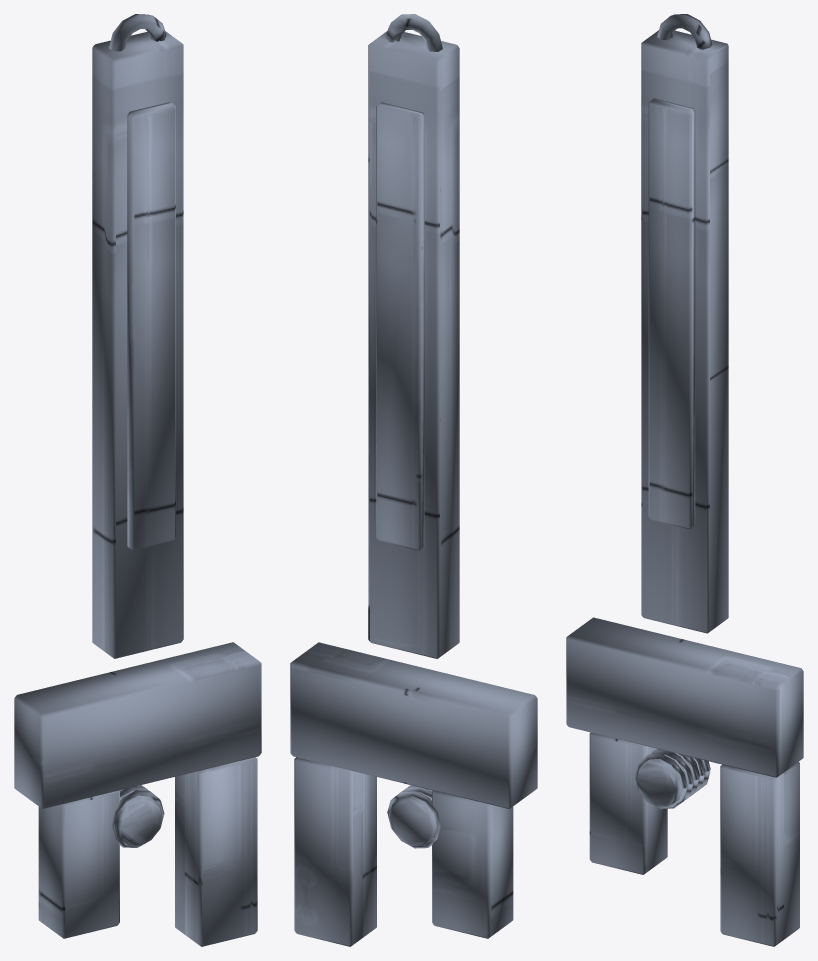
File: Tano_Llave.fbx
3 views of the same model, side by side, from view 1: azimuth 30°, elevation 25°; view 2: azimuth 150°, elevation 25°; view 3: azimuth 330°, elevation 25° (orthographic). The views are drawn at different scales.
Parts seen in each view (by area): view 1: Tano_Llave; view 2: Tano_Llave; view 3: Tano_Llave.
Part boxes in pixels (x1,y1,x2,y2): Tano_Llave: (14, 14, 261, 946); Tano_Llave: (290, 14, 537, 946); Tano_Llave: (566, 14, 803, 946).
Bounding box in the file's own units: 0.6071 × 2.45 × 0.1571.
